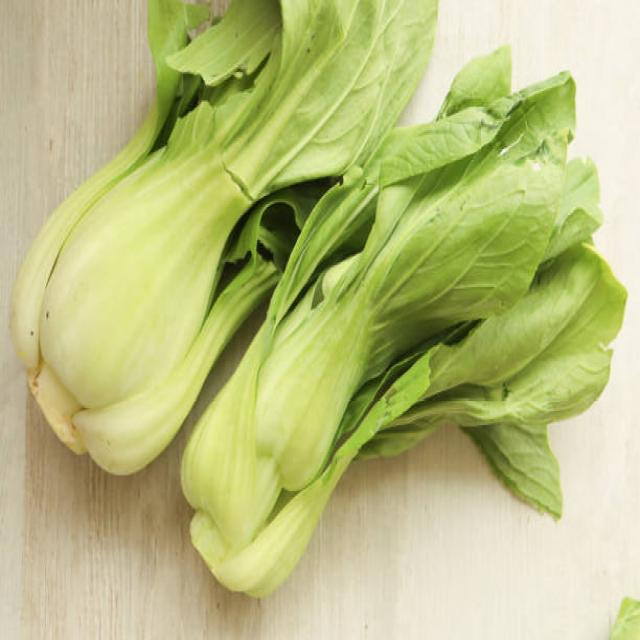bok choy: (254, 238, 640, 560), (25, 67, 206, 494)
